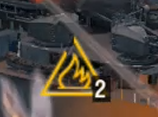2fire: (36, 66, 111, 104)
